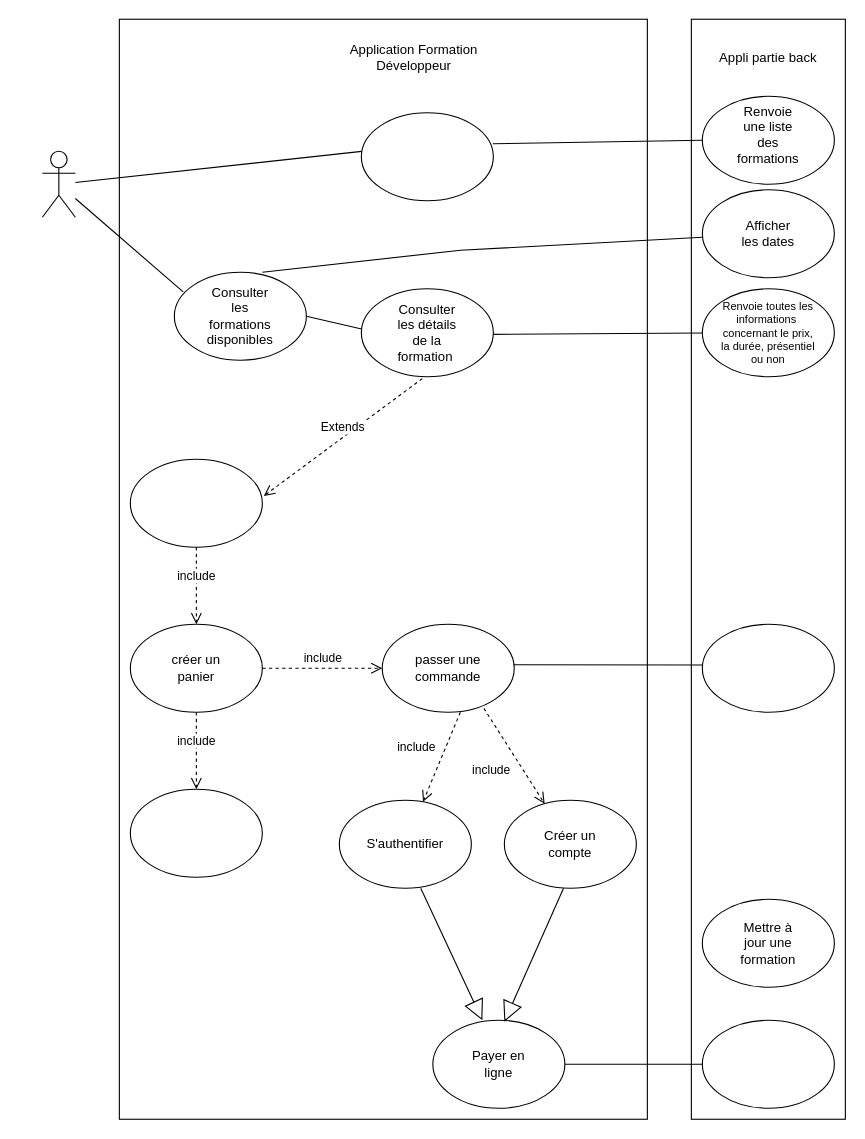
Image size: 865x1139. Some labels were removed from this diagram. The centre of each missing label's shape, as x and y in pixels:
Afficher un menu avec les formations: the point at 426,156
Ajouter des formations au panier: the point at 195,502
Créer une commande: the point at 767,1063
Demande de connexion: the point at 767,667
Modifier panier: the point at 195,832
Utilisateur non connecté: the point at 58,183
